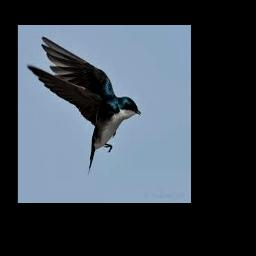Swallow: (27, 35, 140, 173)
